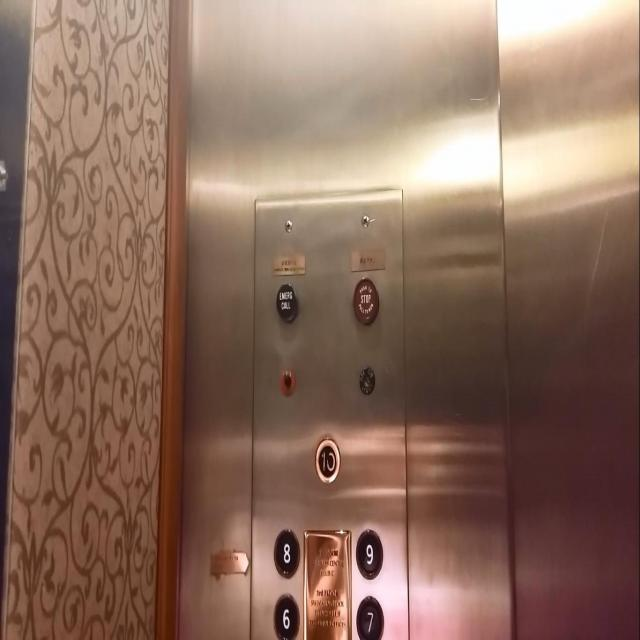10: (315, 437, 340, 483)
6: (273, 592, 299, 639)
7: (356, 595, 384, 639)
8: (273, 528, 300, 578)
9: (355, 528, 383, 581)
keyhole: (359, 367, 375, 395)
switch: (280, 368, 296, 396)
text: (352, 276, 378, 324), (274, 282, 298, 322)
